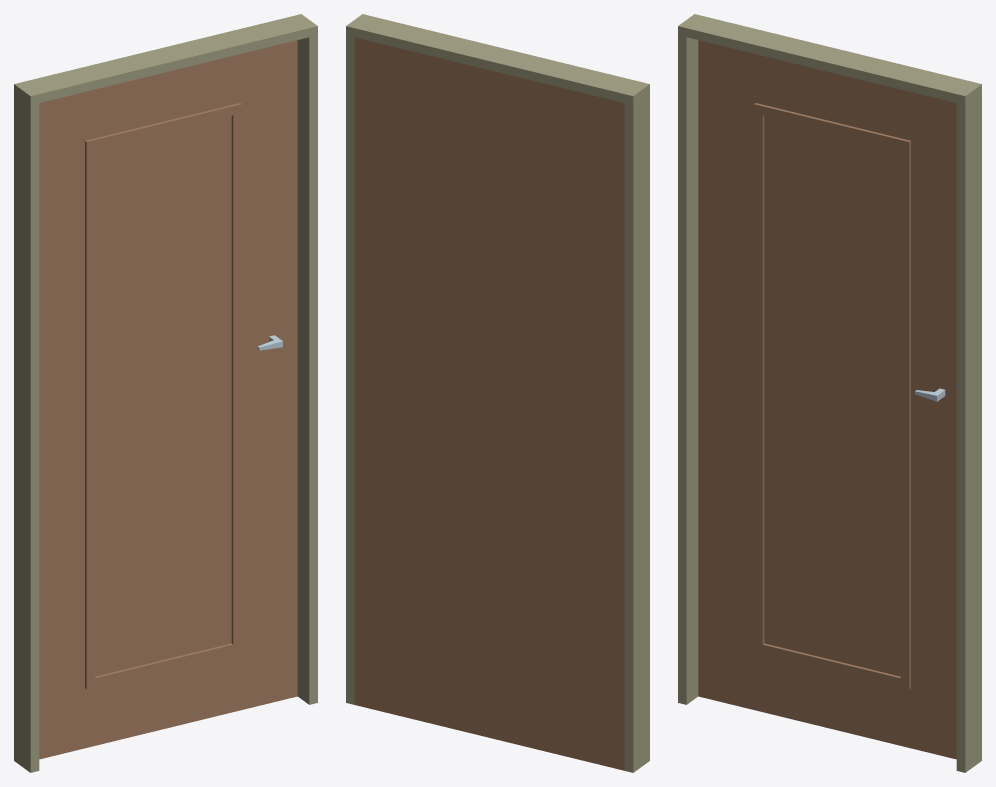
File: OtherDoors.fbx
3 renders of one model, left to right at view 1: azimuth 30°, elevation 25°; view 2: azimuth 150°, elevation 25°; view 3: azimuth 330°, elevation 25°, orthographic.
Parts seen in each view (by area): view 1: DoorPanel1m2, DoorFrames1m1; view 2: DoorPanel1m2, DoorFrames1m1; view 3: DoorPanel1m2, DoorFrames1m1.
Part boxes in pixels (<box>): DoorPanel1m2: <box>39,40,297,759</box>; DoorFrames1m1: <box>14,14,317,772</box>; DoorPanel1m2: <box>354,37,624,770</box>; DoorFrames1m1: <box>346,14,649,772</box>; DoorPanel1m2: <box>698,40,956,759</box>; DoorFrames1m1: <box>678,14,981,772</box>.
Bounding box in the file's own units: 1 × 2.25 × 0.1.
